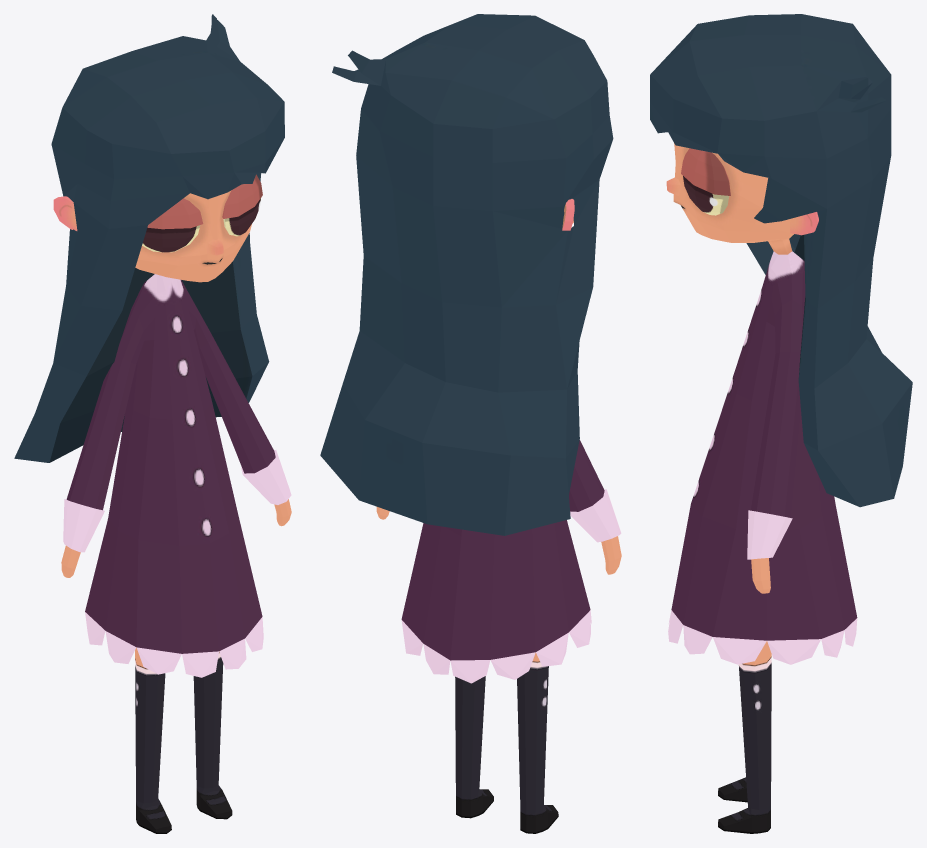
The model's file is doll.fbx.
3 renders of one model, left to right at view 1: azimuth 30°, elevation 25°; view 2: azimuth 150°, elevation 25°; view 3: azimuth 270°, elevation 25°, orthographic. The views are drawn at different scales.
Visible parts, largest first — view 1: Object_1, Object_0; view 2: Object_0, Object_1; view 3: Object_0, Object_1.
Boxes of the visible parts, box(x1,y1,x2,y2) form: Object_1: box(53, 190, 291, 833); Object_0: box(14, 14, 284, 462); Object_0: box(320, 14, 613, 535); Object_1: box(376, 199, 621, 833); Object_0: box(650, 14, 912, 507); Object_1: box(666, 143, 857, 833).
Size of the model in its own units: 100 by 300 by 91.59.
